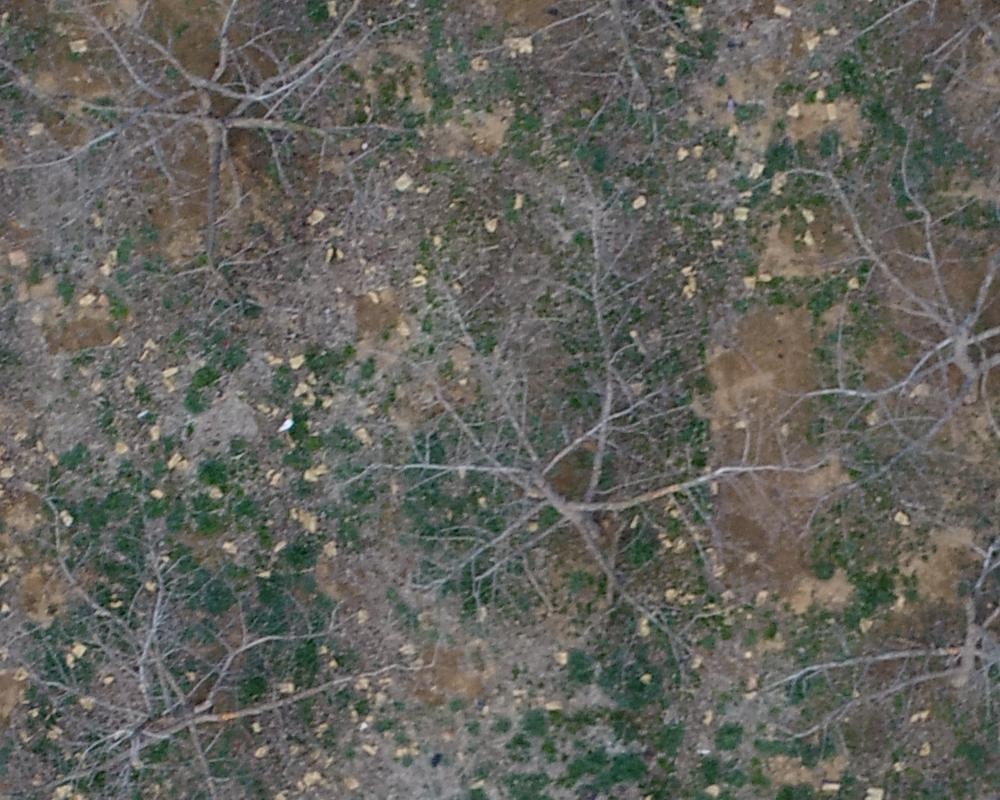apple: (373, 194, 779, 700), (29, 10, 410, 312), (10, 513, 391, 790), (787, 139, 990, 474), (794, 486, 990, 760)
